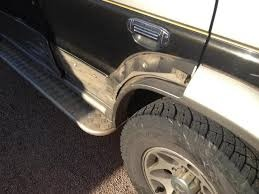Dent: (54, 47, 159, 118)
